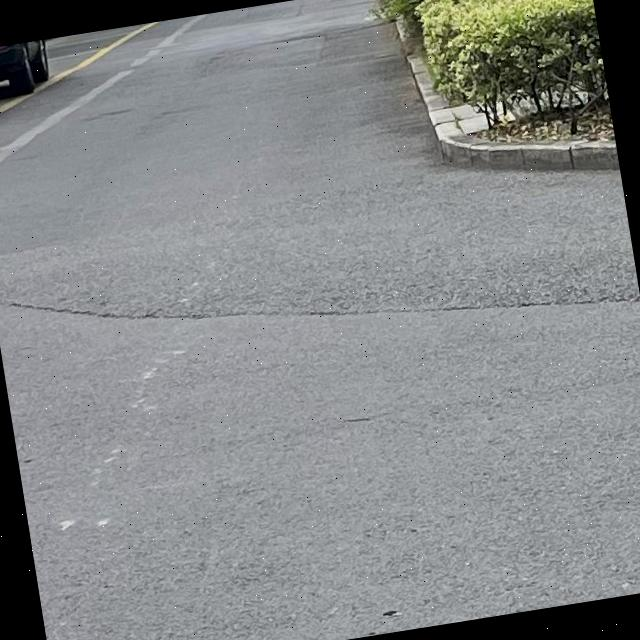curb: (394, 22, 462, 137), (440, 136, 619, 171)
